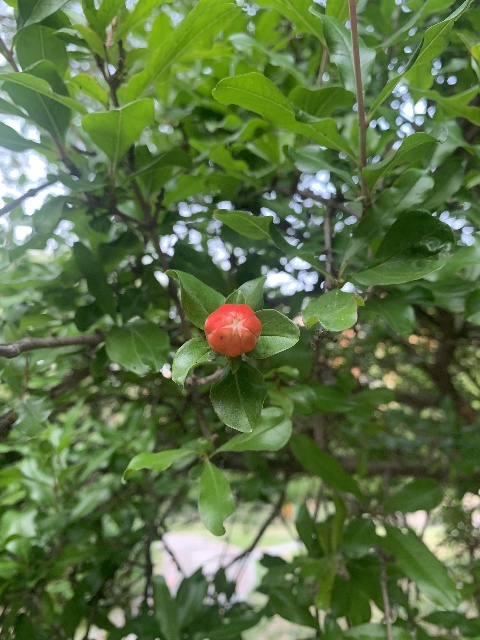bud: (204, 303, 261, 357)
